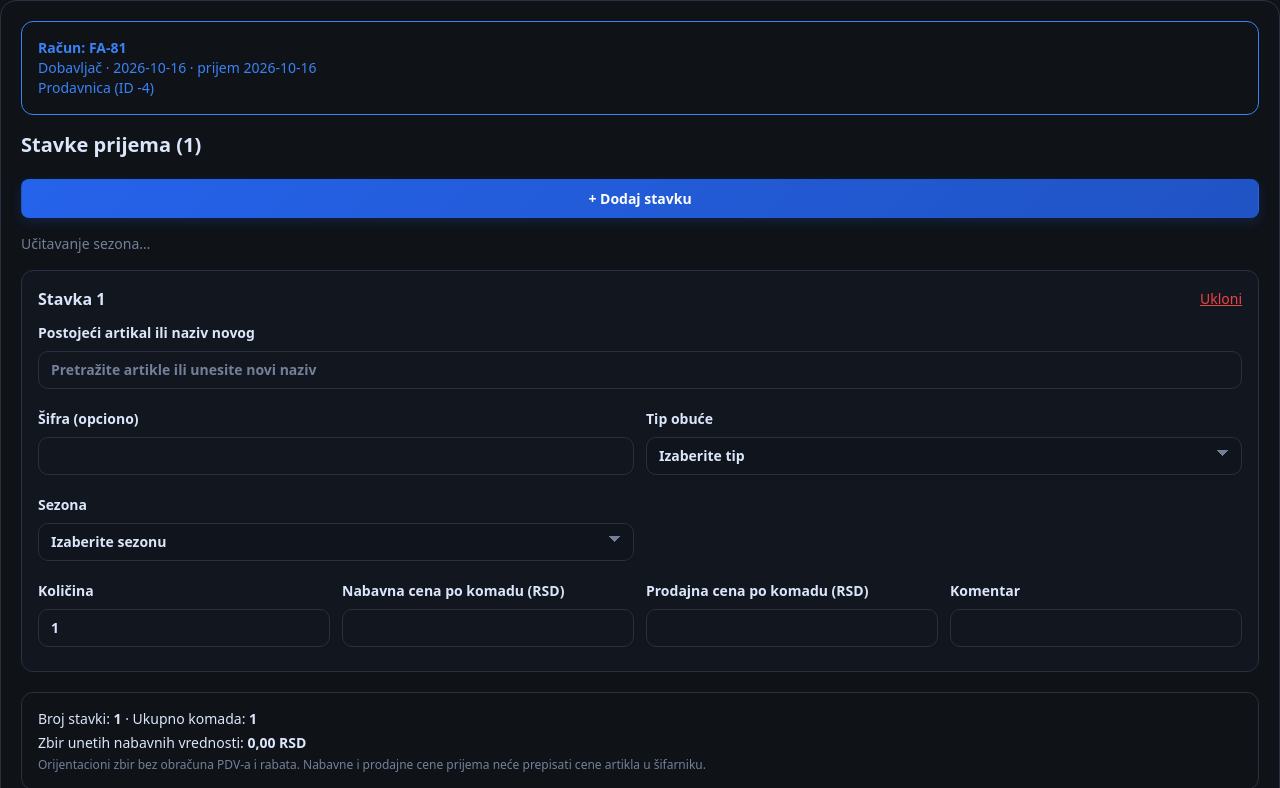
Test: UnosArtikalaForm receipt regressions › hides old article results as soon as the search query changes
In the field with placeholder "Pretražite artikle ili unesite novi naziv": (640,370) top-left (38, 351), bottom-right (1242, 389), type "Čizma"
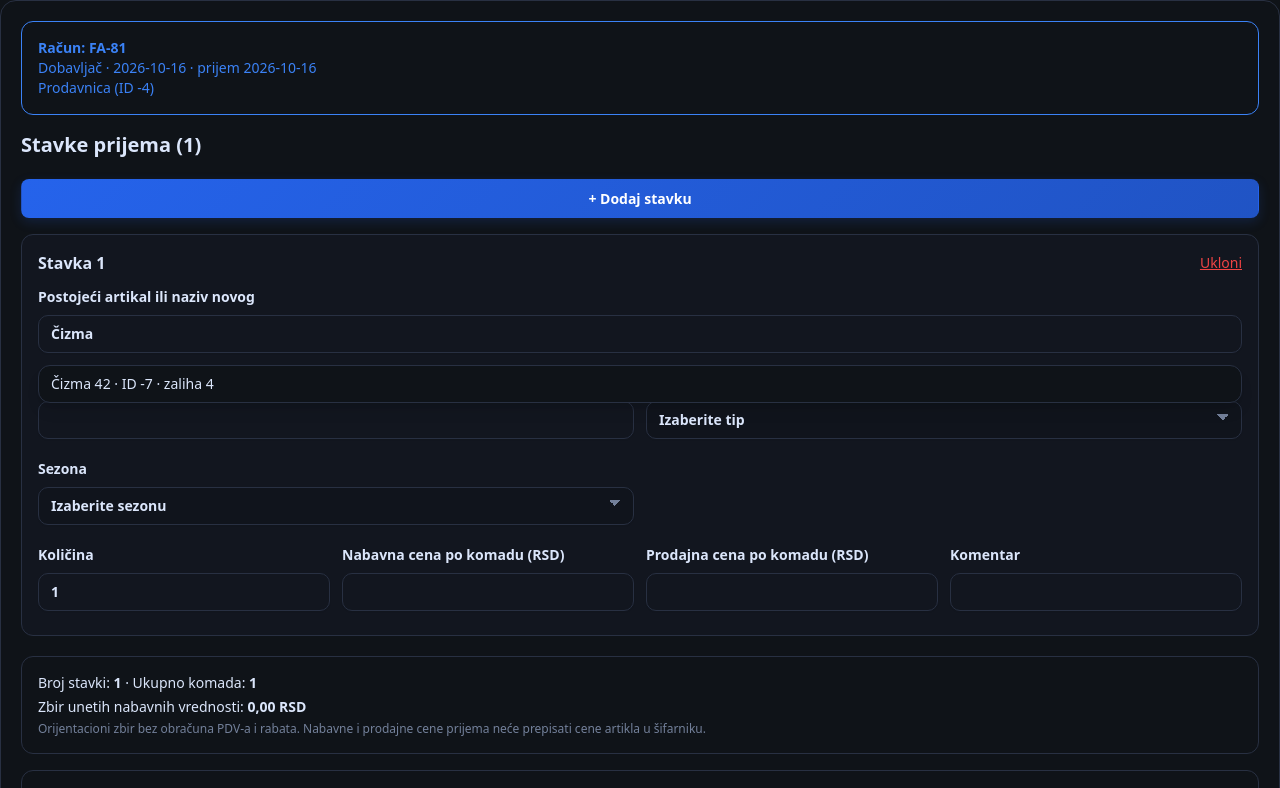
Expected: the button "Čizma 42 · ID -7 · zaliha 4" is shown, top-left (39, 366), bottom-right (1241, 402)
Replace the text in the field with placeholder "Pretražite artikle ili unesite novi naziv" with "Patika": (640,334) top-left (38, 315), bottom-right (1242, 353)
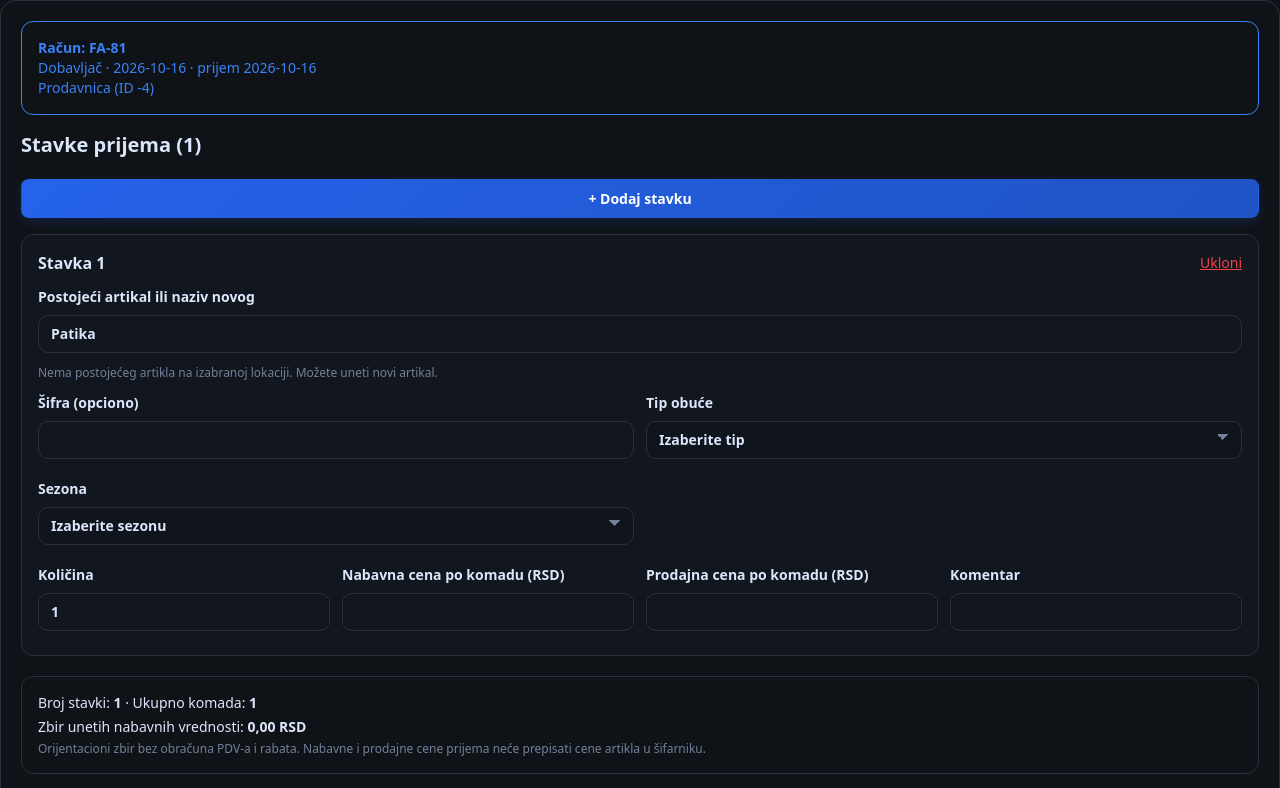
Expected: the button "Čizma 42 · ID -7" is gone
